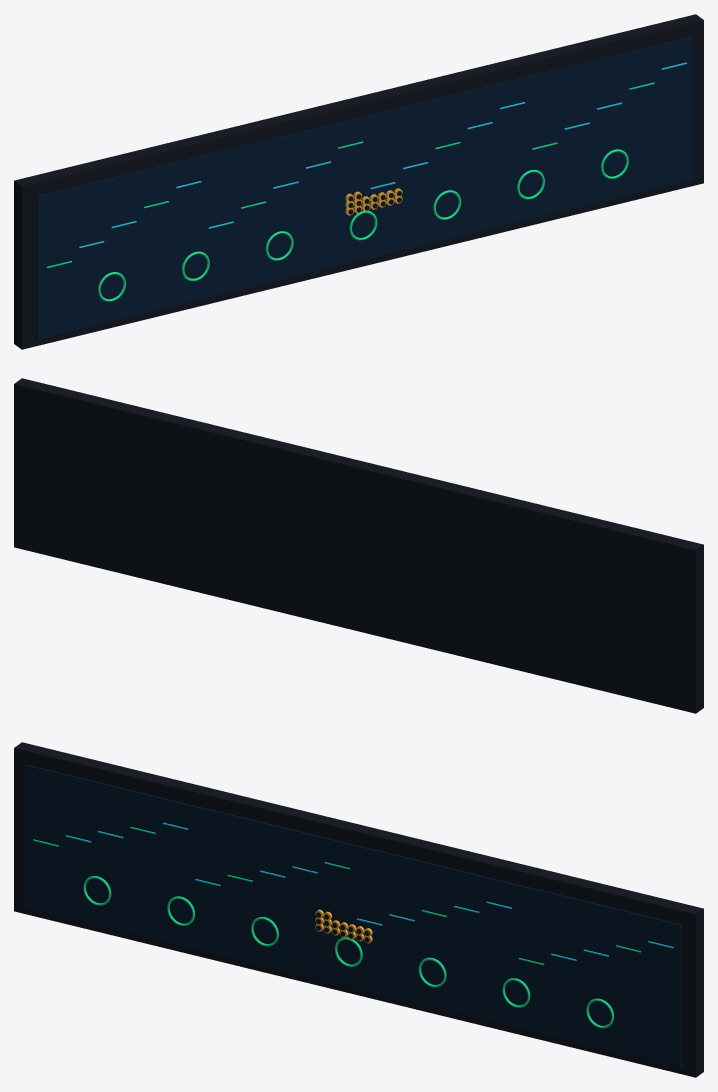
The model's file is 76_L86_HolographicOrbitalRoboticsSCADA.fbx.
3 views of the same model, one above another, from view 1: azimuth 30°, elevation 25°; view 2: azimuth 150°, elevation 25°; view 3: azimuth 330°, elevation 25° (orthographic).
Visible parts, largest first — view 1: L86_HolographicOrbitalRoboticsSCADA_Part_0001, L86_HolographicOrbitalRoboticsSCADA, L86_HolographicOrbitalRoboticsSCADA_Part_0002, L86_HolographicOrbitalRoboticsSCADA_Part_0003; view 2: L86_HolographicOrbitalRoboticsSCADA; view 3: L86_HolographicOrbitalRoboticsSCADA_Part_0001, L86_HolographicOrbitalRoboticsSCADA, L86_HolographicOrbitalRoboticsSCADA_Part_0002, L86_HolographicOrbitalRoboticsSCADA_Part_0003.
Part boxes in pixels (<box>): L86_HolographicOrbitalRoboticsSCADA_Part_0001: <box>36,36,693,339</box>; L86_HolographicOrbitalRoboticsSCADA: <box>14,14,703,349</box>; L86_HolographicOrbitalRoboticsSCADA_Part_0002: <box>46,82,654,301</box>; L86_HolographicOrbitalRoboticsSCADA_Part_0003: <box>79,62,686,248</box>; L86_HolographicOrbitalRoboticsSCADA: <box>14,378,703,713</box>; L86_HolographicOrbitalRoboticsSCADA_Part_0001: <box>24,764,681,1067</box>; L86_HolographicOrbitalRoboticsSCADA: <box>14,742,703,1077</box>; L86_HolographicOrbitalRoboticsSCADA_Part_0002: <box>33,827,641,1028</box>; L86_HolographicOrbitalRoboticsSCADA_Part_0003: <box>65,822,673,960</box>.
Bounding box in the file's own units: 1180 × 270 × 61.2.
